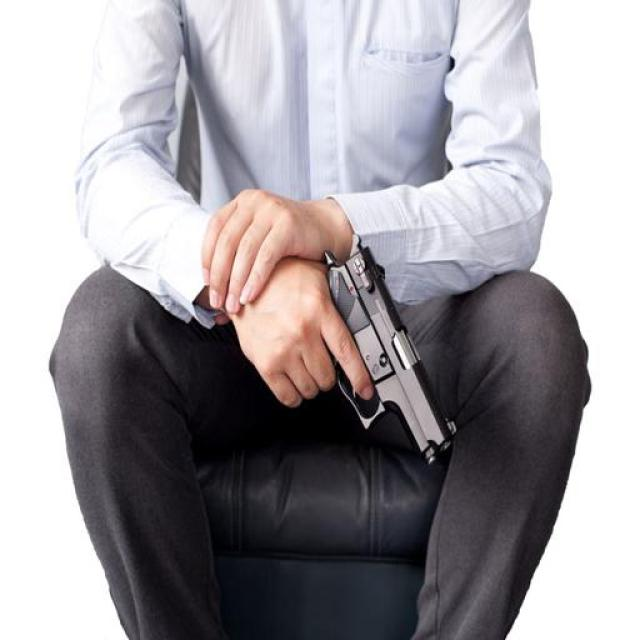pistol: (230, 253, 454, 471)
